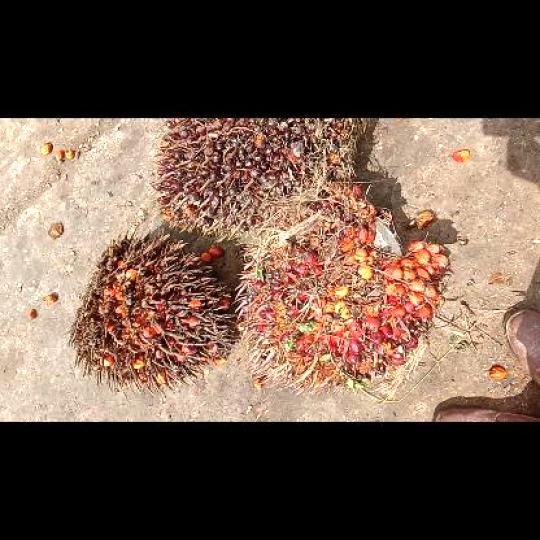kurang masak: (154, 117, 368, 236)
masak: (240, 186, 445, 388)
terlalu masak: (69, 233, 232, 382)
